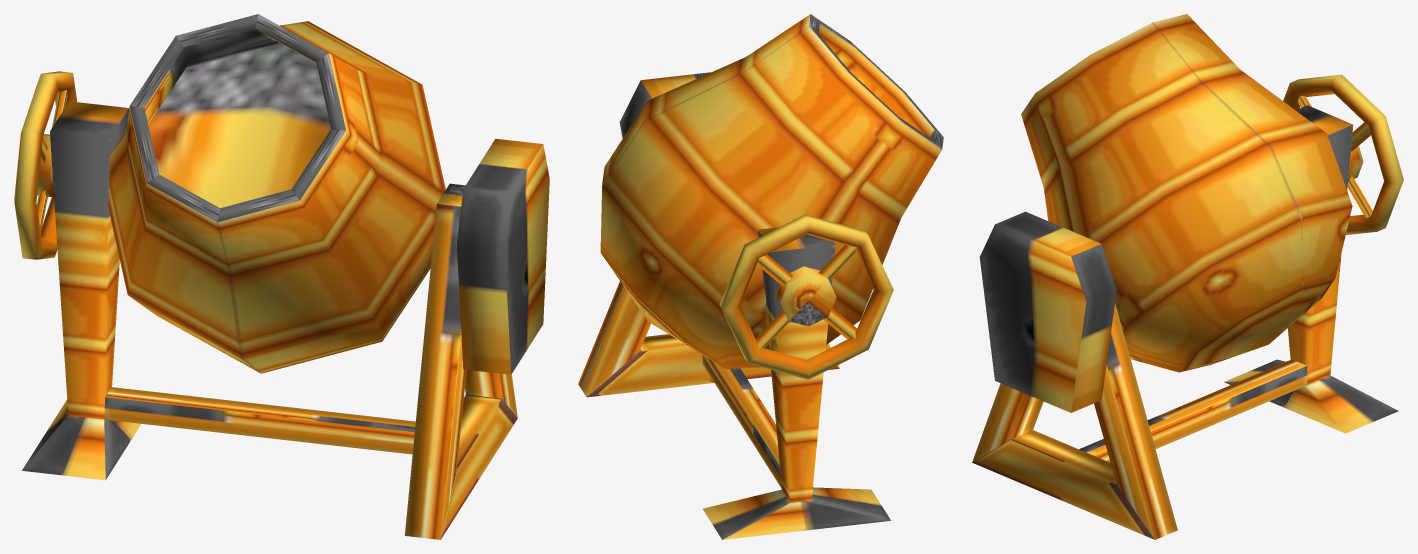
Rendered from int_csx_sement.dae.
3 views of the same model, side by side, from view 1: azimuth 30°, elevation 25°; view 2: azimuth 150°, elevation 25°; view 3: azimuth 270°, elevation 25° (orthographic). The views are drawn at different scales.
Parts seen in each view (by area): view 1: int_csx_sement; view 2: int_csx_sement; view 3: int_csx_sement.
Part boxes in pixels (x1,y1,x2,y2): int_csx_sement: [14, 14, 549, 539]; int_csx_sement: [578, 14, 943, 539]; int_csx_sement: [972, 14, 1403, 539].
Size of the model in its own units: 32.04 by 33.33 by 32.04.
1 material, 1 textured.
